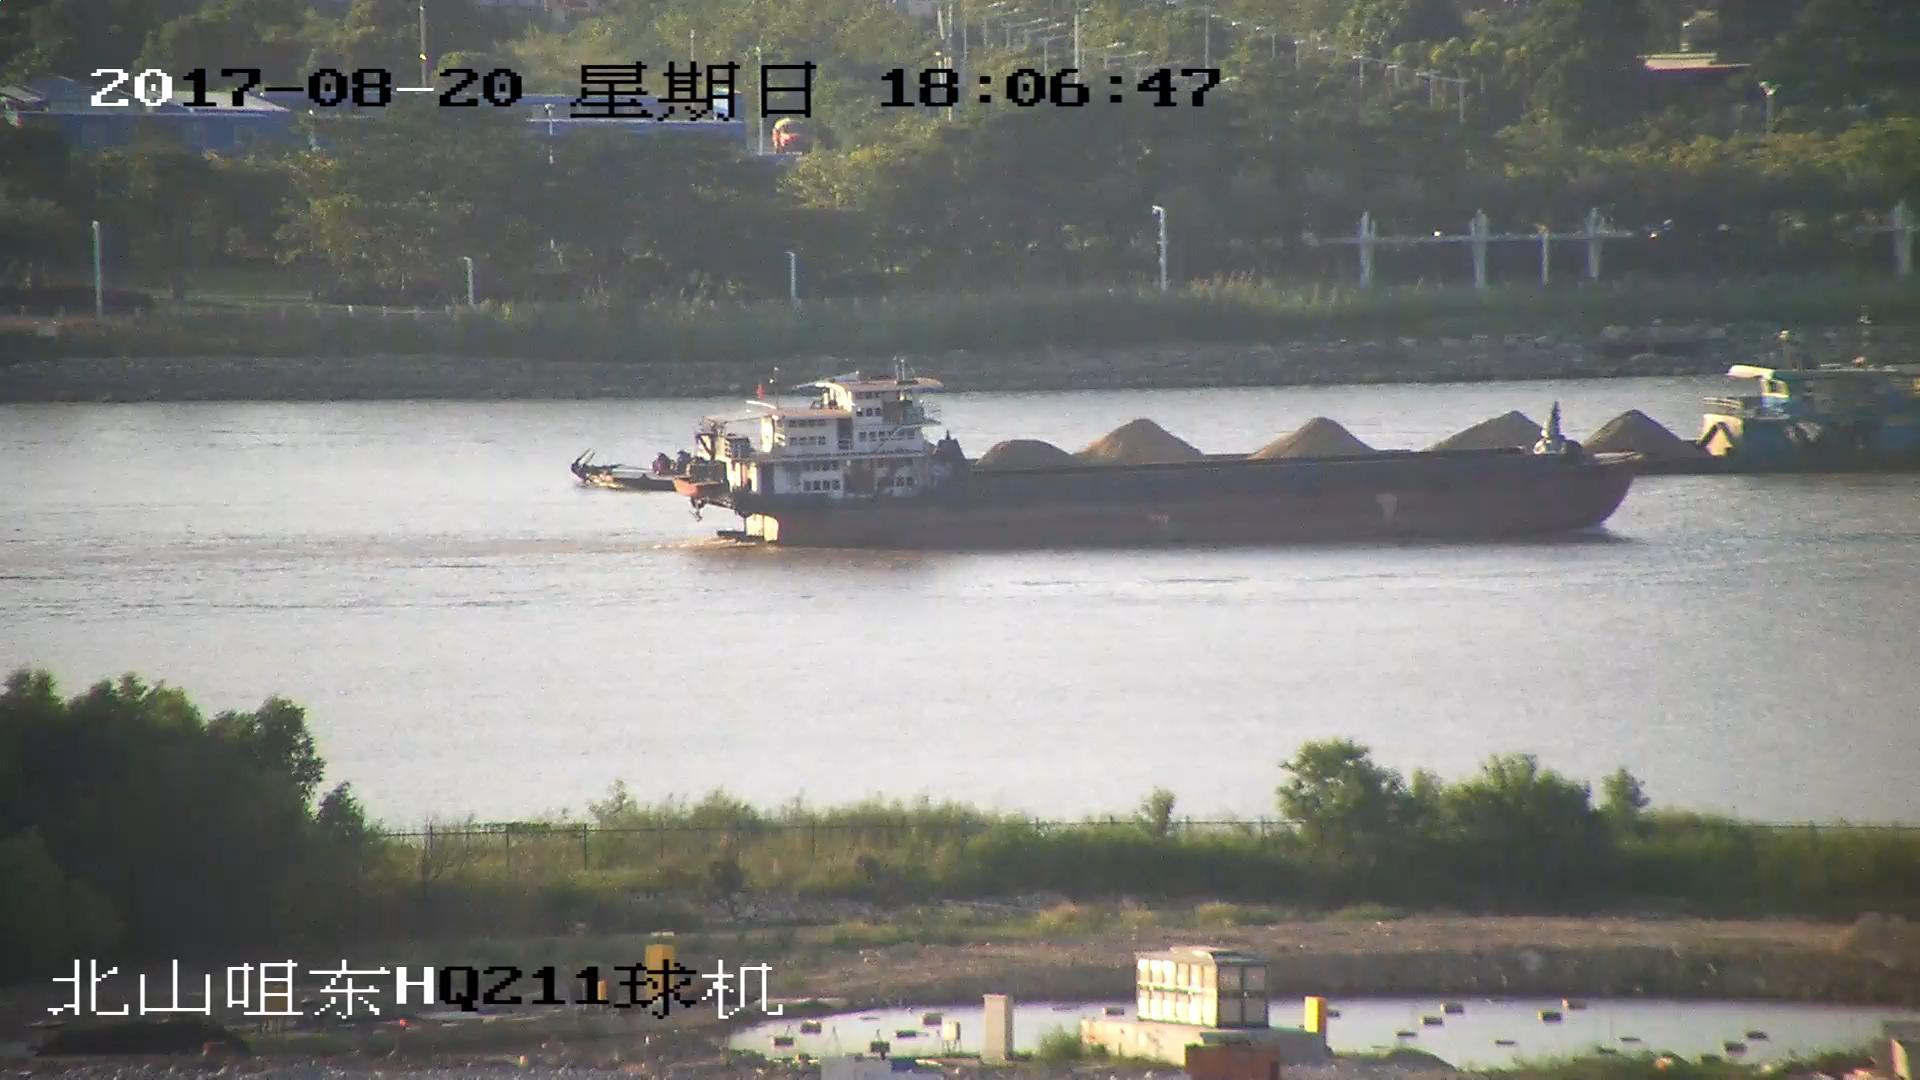Ship: (575, 345, 1920, 495), (675, 378, 1648, 551)
